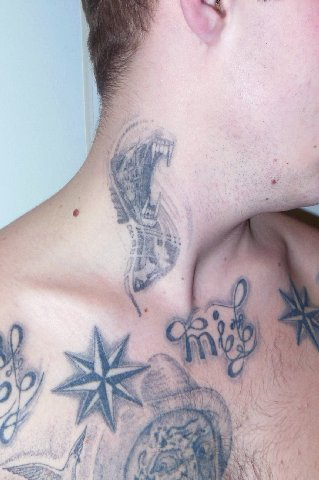tatu3_bukva: (158, 298, 253, 386)
tatu4_zvezda: (48, 316, 152, 432), (269, 272, 319, 348)
tatu6_drakon: (104, 109, 192, 325)
